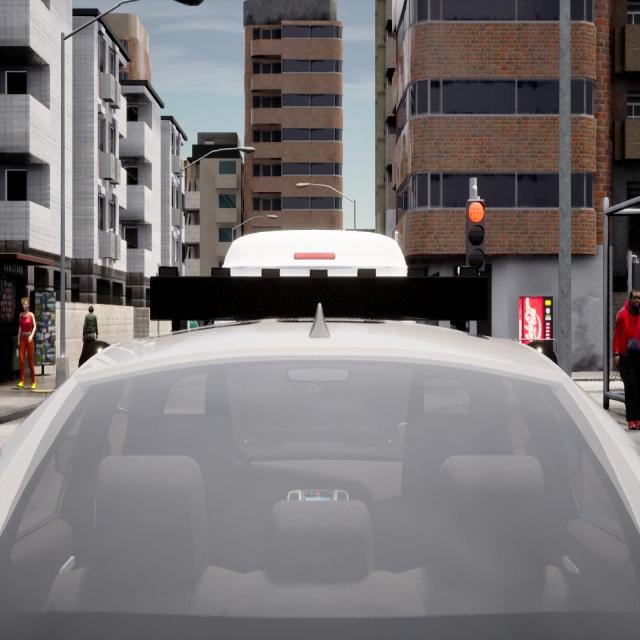Pedestrian: (613, 289, 639, 430), (17, 297, 36, 388), (82, 306, 98, 342)
Vehicle: (0, 319, 640, 637), (222, 232, 408, 278)
traffic_light: (465, 200, 486, 268), (632, 263, 640, 288)
